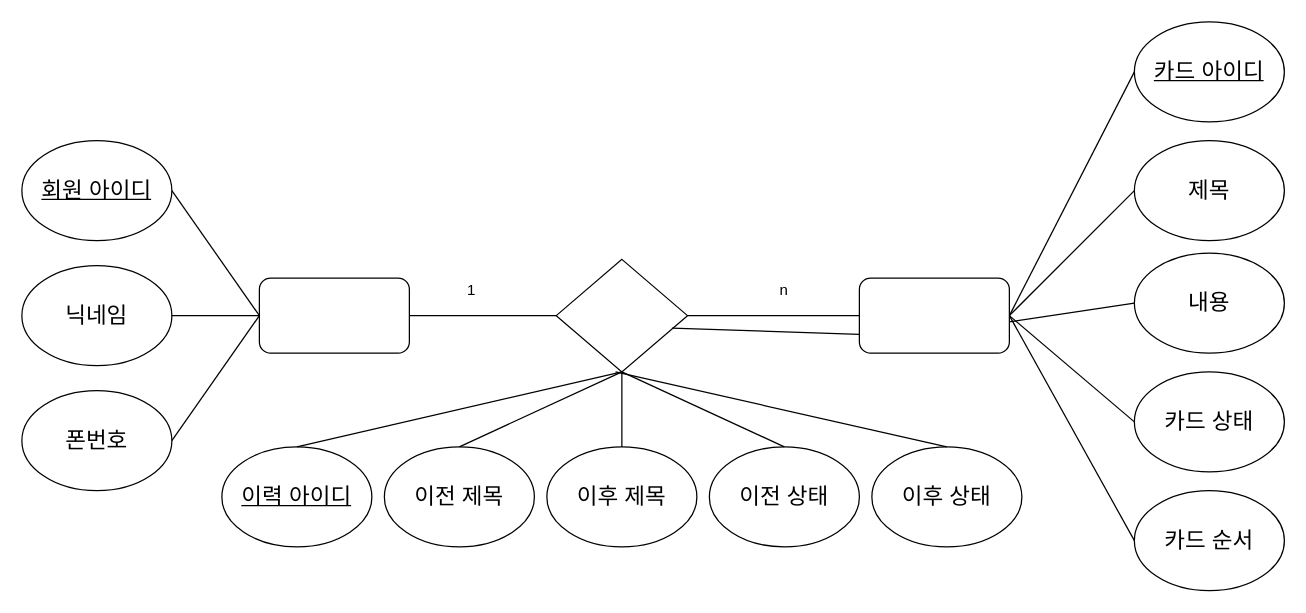
Some shapes in this 1306 by 613 pixel diagram are drawn without their labels. Each missing label, with the box of its shape:
등록/변경: (555, 258, 688, 372)
카드: (858, 277, 1009, 353)
회원: (258, 277, 409, 353)
